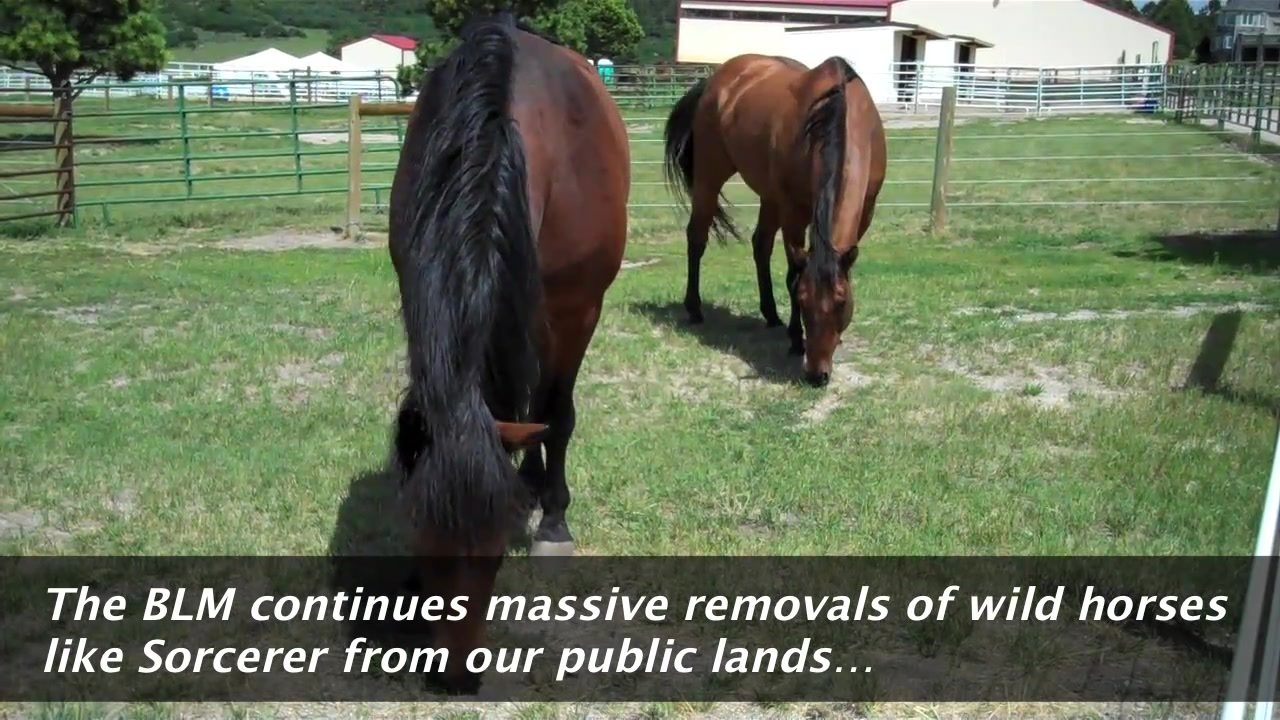horse: (387, 22, 638, 700), (663, 54, 890, 387)
